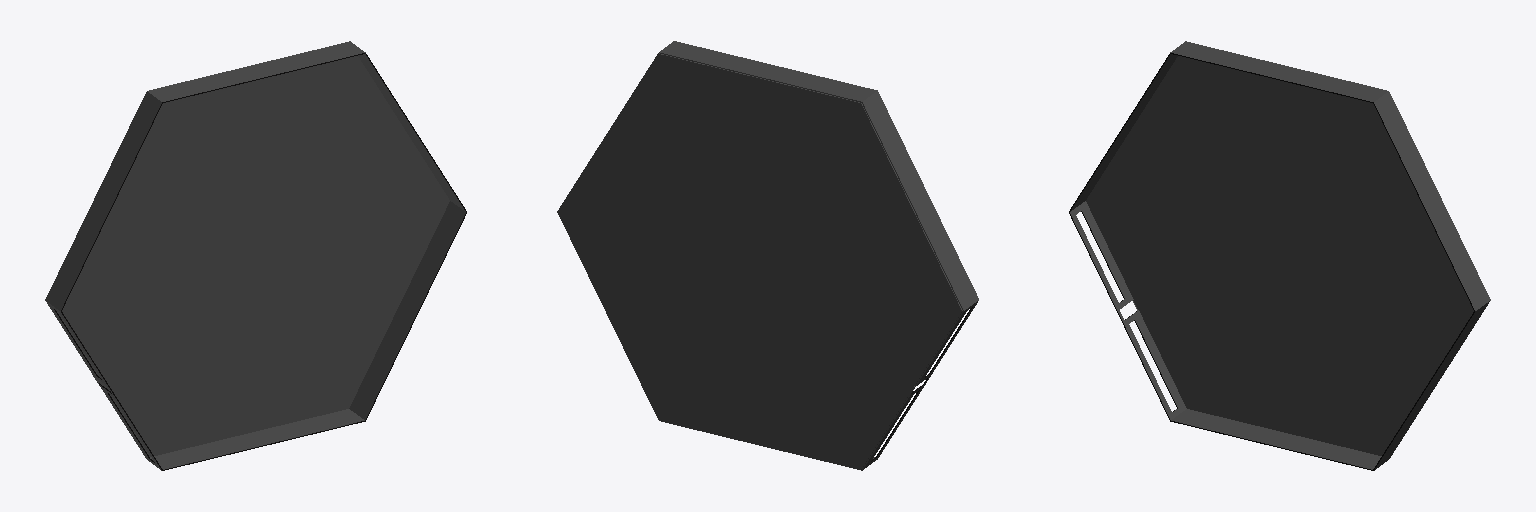
Rendered from wavefrontBase.obj.
The picture shows the model from 3 angles: view 1: azimuth 30°, elevation 25°; view 2: azimuth 150°, elevation 25°; view 3: azimuth 330°, elevation 25°; orthographic projection.
Parts seen in each view (by area): view 1: object 1; view 2: object 1; view 3: object 1.
Boxes of the visible parts, x1,y1,x2,y2 form: object 1: [45, 41, 466, 470]; object 1: [557, 41, 978, 470]; object 1: [1069, 41, 1490, 470].
Size of the model in its own units: 40.23 by 34.84 by 2.76.